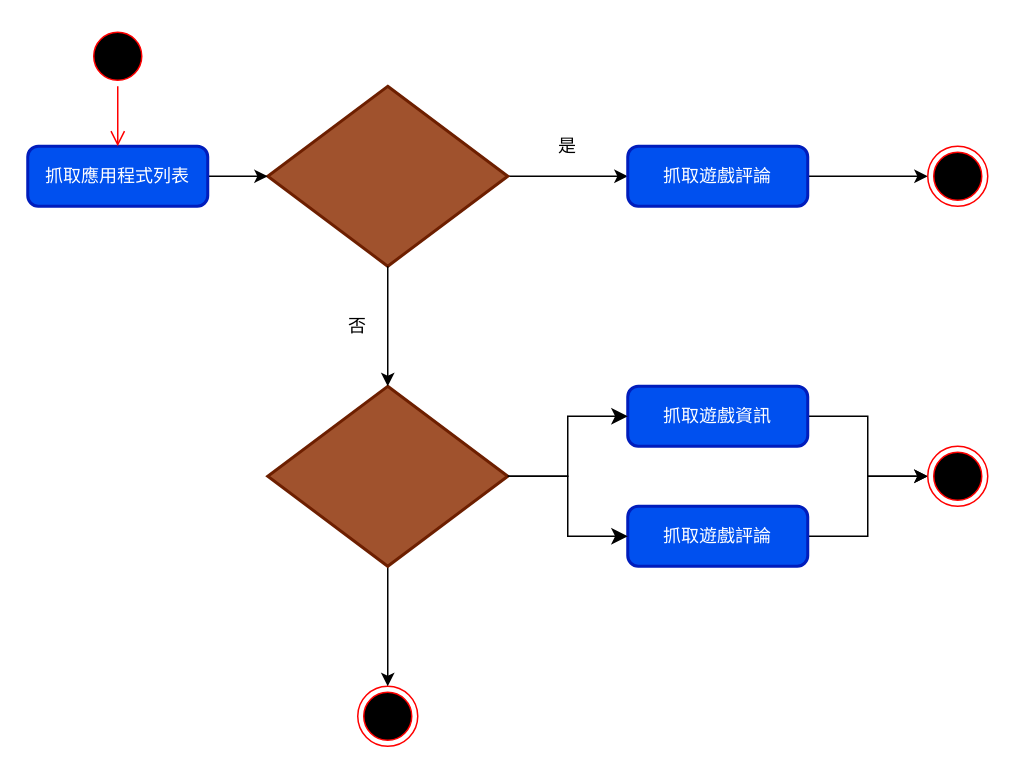
The diagram is 1014 pixels wide and 773 high, and some of its shapes have lost their labels. Here are the shapes that lost their labels. From the top down, the centre of each, then its label:
the point at 387,175: 比對資料庫 是否已搜集過 該應用程式資料
the point at 387,475: 判斷該應用程式是否為遊戲
